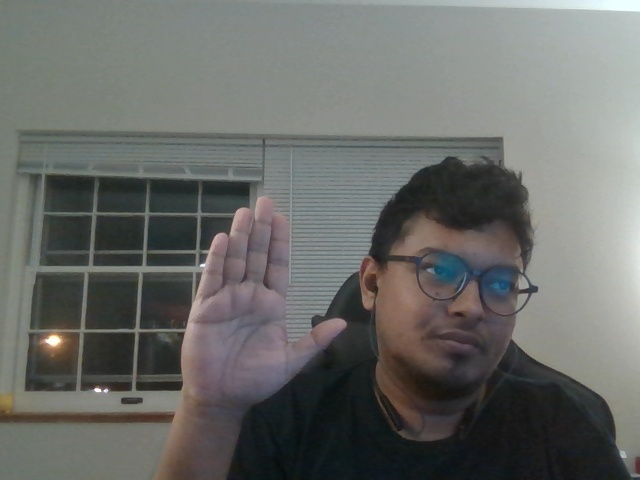hello: (164, 185, 356, 408)
